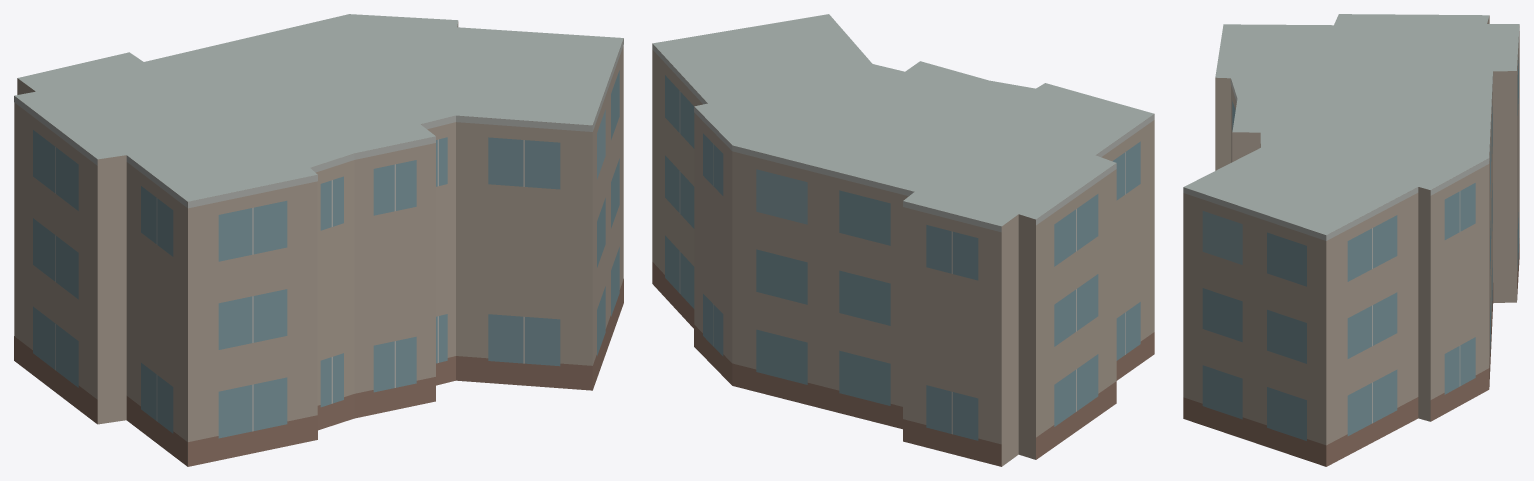
Rendered from survey-upis-32522054.glb.
The picture shows the model from 3 angles, left to right: view 1: azimuth 30°, elevation 25°; view 2: azimuth 150°, elevation 25°; view 3: azimuth 270°, elevation 25°; orthographic projection. The views are drawn at different scales.
Parts seen in each view (by area): view 1: survey-upis-32522054.tmp; view 2: survey-upis-32522054.tmp; view 3: survey-upis-32522054.tmp.
Part boxes in pixels (bbox=[...]): survey-upis-32522054.tmp: bbox=[14, 14, 623, 466]; survey-upis-32522054.tmp: bbox=[652, 14, 1154, 466]; survey-upis-32522054.tmp: bbox=[1183, 14, 1519, 466].
Bounding box in the file's own units: 20.09 × 9.8 × 12.9.
